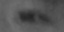Non-RightEyeFatigue: (8, 4, 55, 27)
